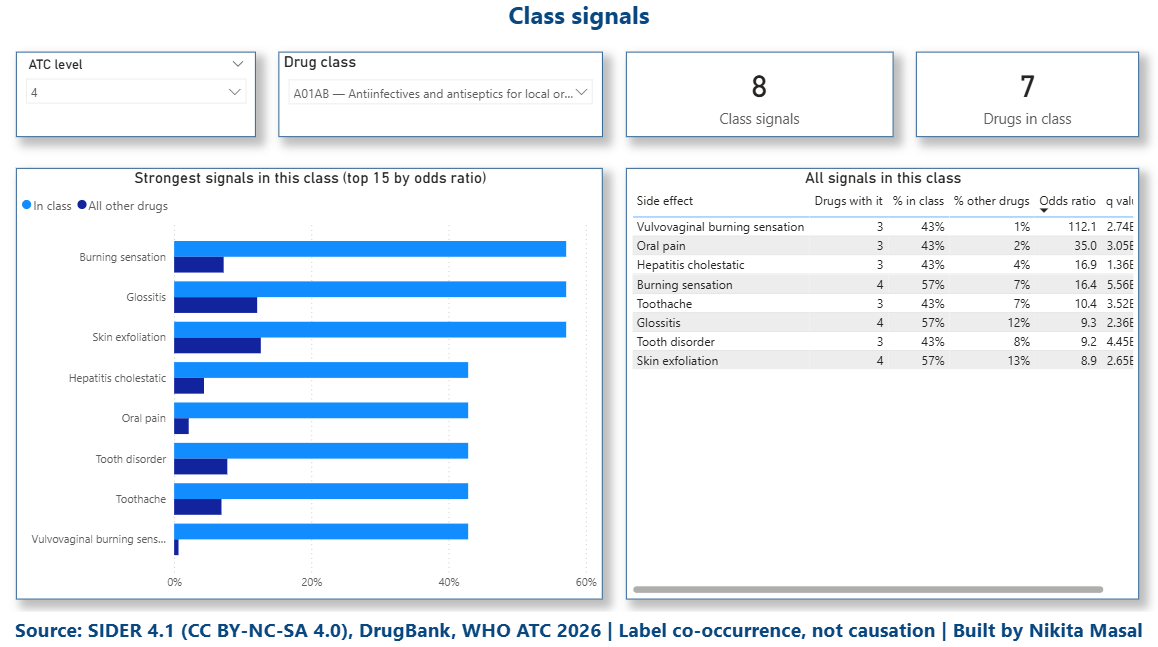

The dashboard page shown, as its layout file describes it:
{"tool":"powerbi","page":{"name":"Class Signals","canvas":[1280,720],"ordinal":1},"visuals":[{"type":"textbox","box":[0,0,1280,49.6],"z":0},{"type":"slicer","fields":{"Values":["an_class_signals.level"]},"box":[22.4,64.2,263.6,93.4],"z":1000},{"type":"slicer","title":"Drug class","fields":{"Values":["an_class_signals.Class"]},"box":[310.3,64.2,356,93.4],"z":2000},{"type":"clusteredBarChart","title":"Strongest signals in this class (top 15 by odds ratio)","fields":{"Category":["an_class_signals.side_effect_name"],"Y":["Max(an_class_signals.pct_in_class)","Max(an_class_signals.pct_outside_class)"]},"box":[22.4,191.6,643.9,473.7],"z":3000},{"type":"tableEx","title":"All signals in this class","fields":{"Values":["an_class_signals.side_effect_name","Max(an_class_signals.drugs_in_class_with_se)","Max(an_class_signals.pct_in_class)","Max(an_class_signals.pct_outside_class)","Max(an_class_signals.odds_ratio)","Min(an_class_signals.q_value)"]},"box":[691.6,191.6,563.2,473.7],"z":4000},{"type":"card","fields":{"Values":["Measures (2).Class signals"]},"box":[691.6,64.2,293.7,93.4],"z":5000},{"type":"card","fields":{"Values":["Measures (2).Drugs in class"]},"box":[1009.6,64.2,245.1,93.4],"z":6000},{"type":"textbox","box":[0,678.9,1280,40.9],"z":7000}]}

Visuals, with their boxes in screenshot pixels (x1, y1, x2, y2), scaled from the page's 1280x720 canvas onto the 1158x647 screenshot:
textbox: x1=0, y1=0, x2=1157, y2=45
slicer - an_class_signals.level: x1=20, y1=58, x2=259, y2=142
"Drug class" slicer: x1=281, y1=58, x2=603, y2=142
"Strongest signals in this class (top 15 by odds ratio)" clusteredBarChart: x1=20, y1=172, x2=603, y2=598
"All signals in this class" tableEx: x1=626, y1=172, x2=1135, y2=598
card - Measures (2).Class signals: x1=626, y1=58, x2=891, y2=142
card - Measures (2).Drugs in class: x1=913, y1=58, x2=1135, y2=142
textbox: x1=0, y1=610, x2=1157, y2=646
